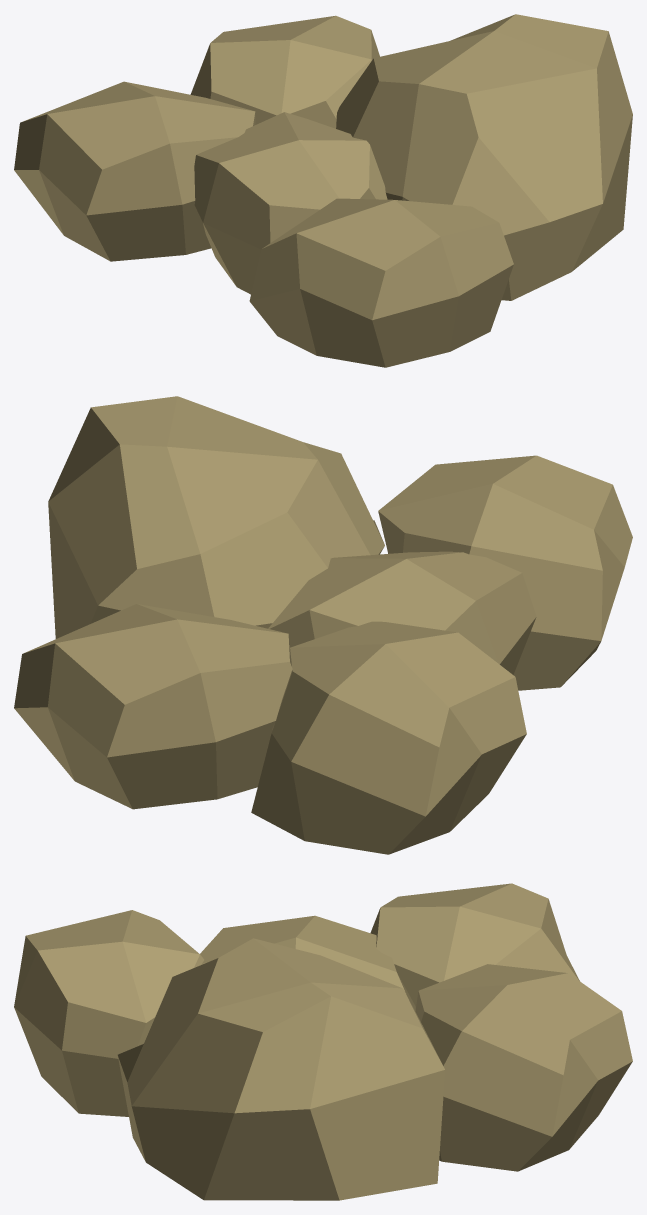
File: desert_stone_1.fbx
The picture shows the model from 3 angles, top to bottom: view 1: azimuth 30°, elevation 25°; view 2: azimuth 150°, elevation 25°; view 3: azimuth 270°, elevation 25°; orthographic projection. The views are drawn at different scales.
Parts seen in each view (by area): view 1: Cube.009; view 2: Cube.009; view 3: Cube.009.
Part boxes in pixels (x1=…): Cube.009: x1=14, y1=14, x2=632, y2=367; Cube.009: x1=14, y1=396, x2=632, y2=854; Cube.009: x1=14, y1=883, x2=632, y2=1200.
Size of the model in its own units: 72.68 by 29.58 by 81.98.
